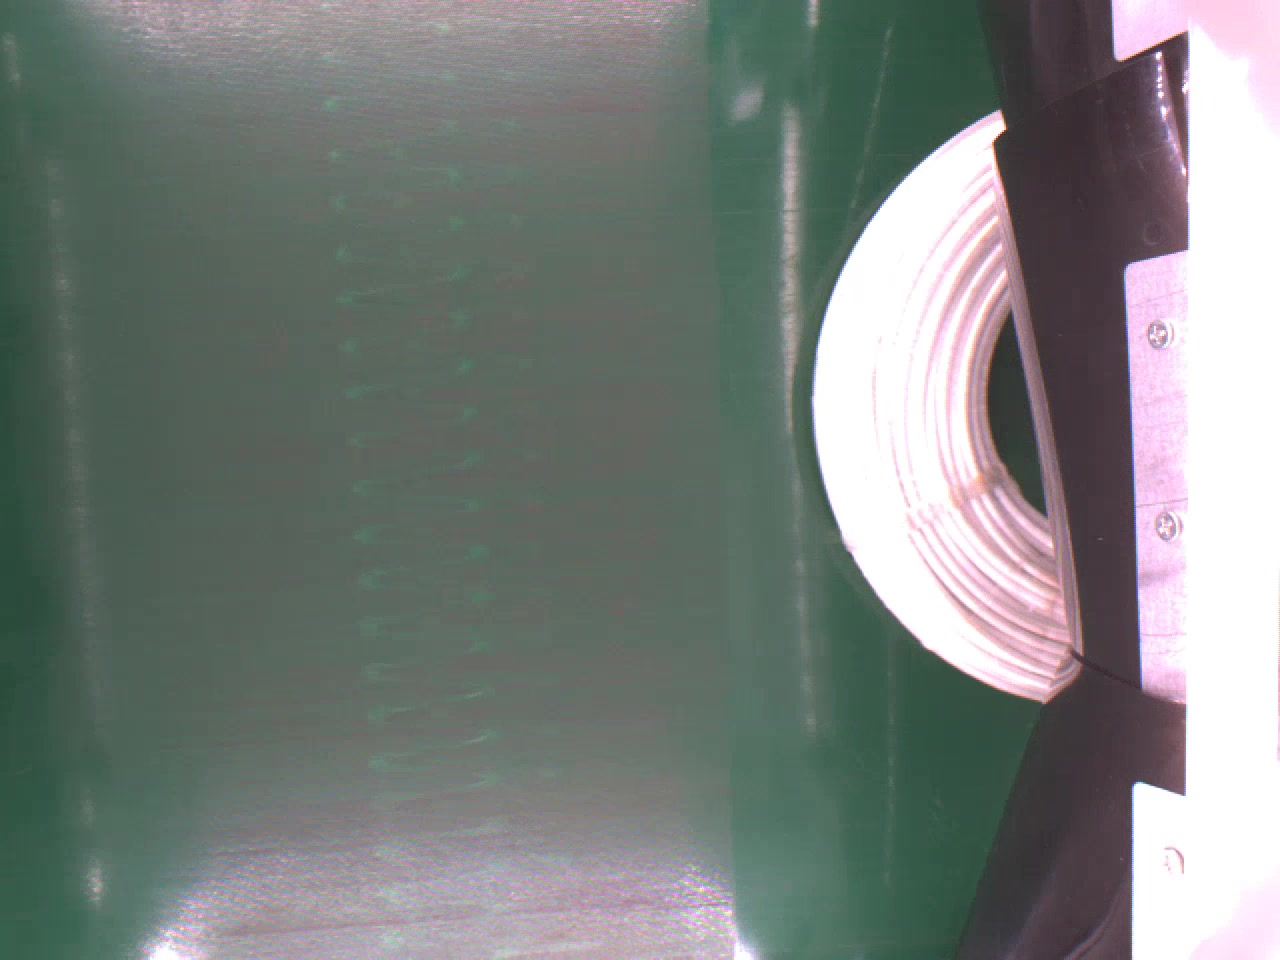white: (810, 108, 1074, 702)
